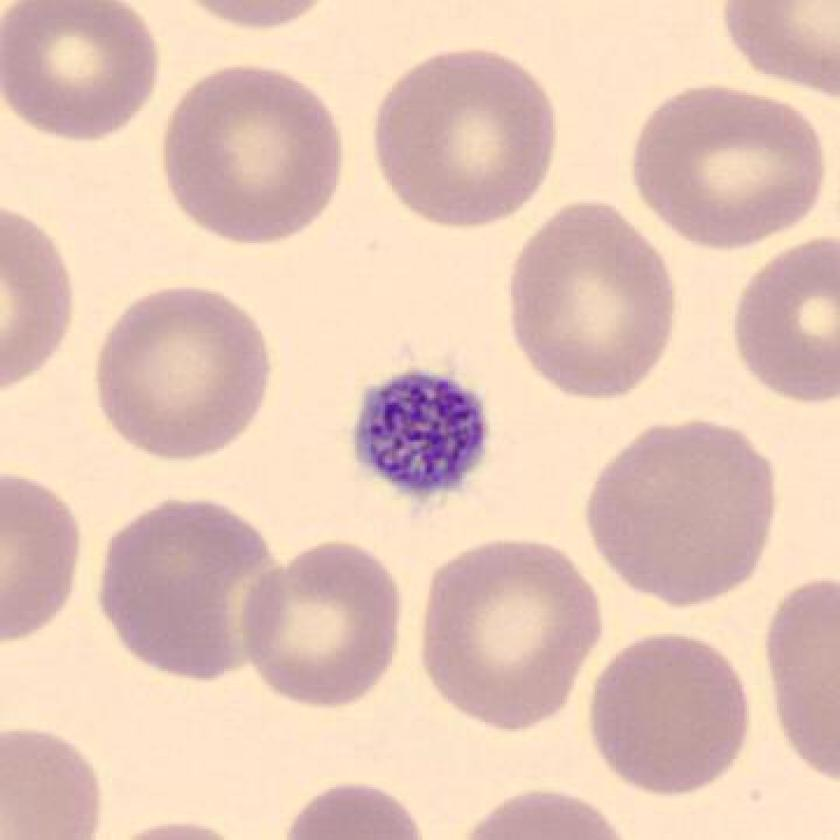platelets: (349, 367, 496, 503)
